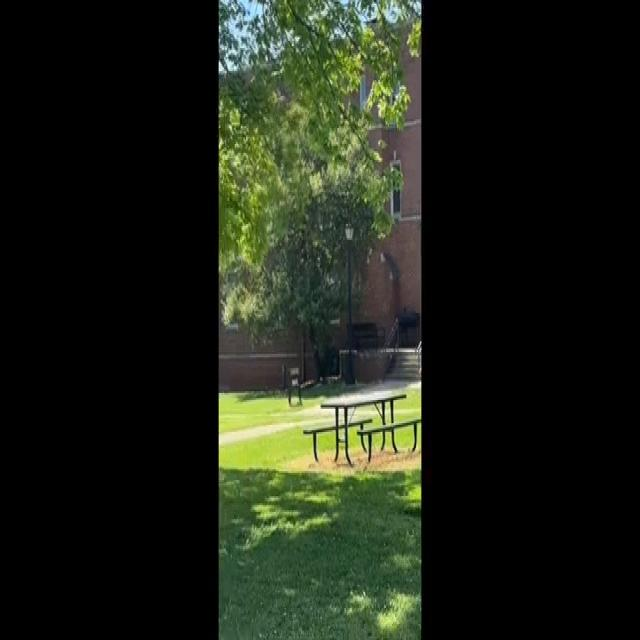drone: (325, 310, 343, 337)
